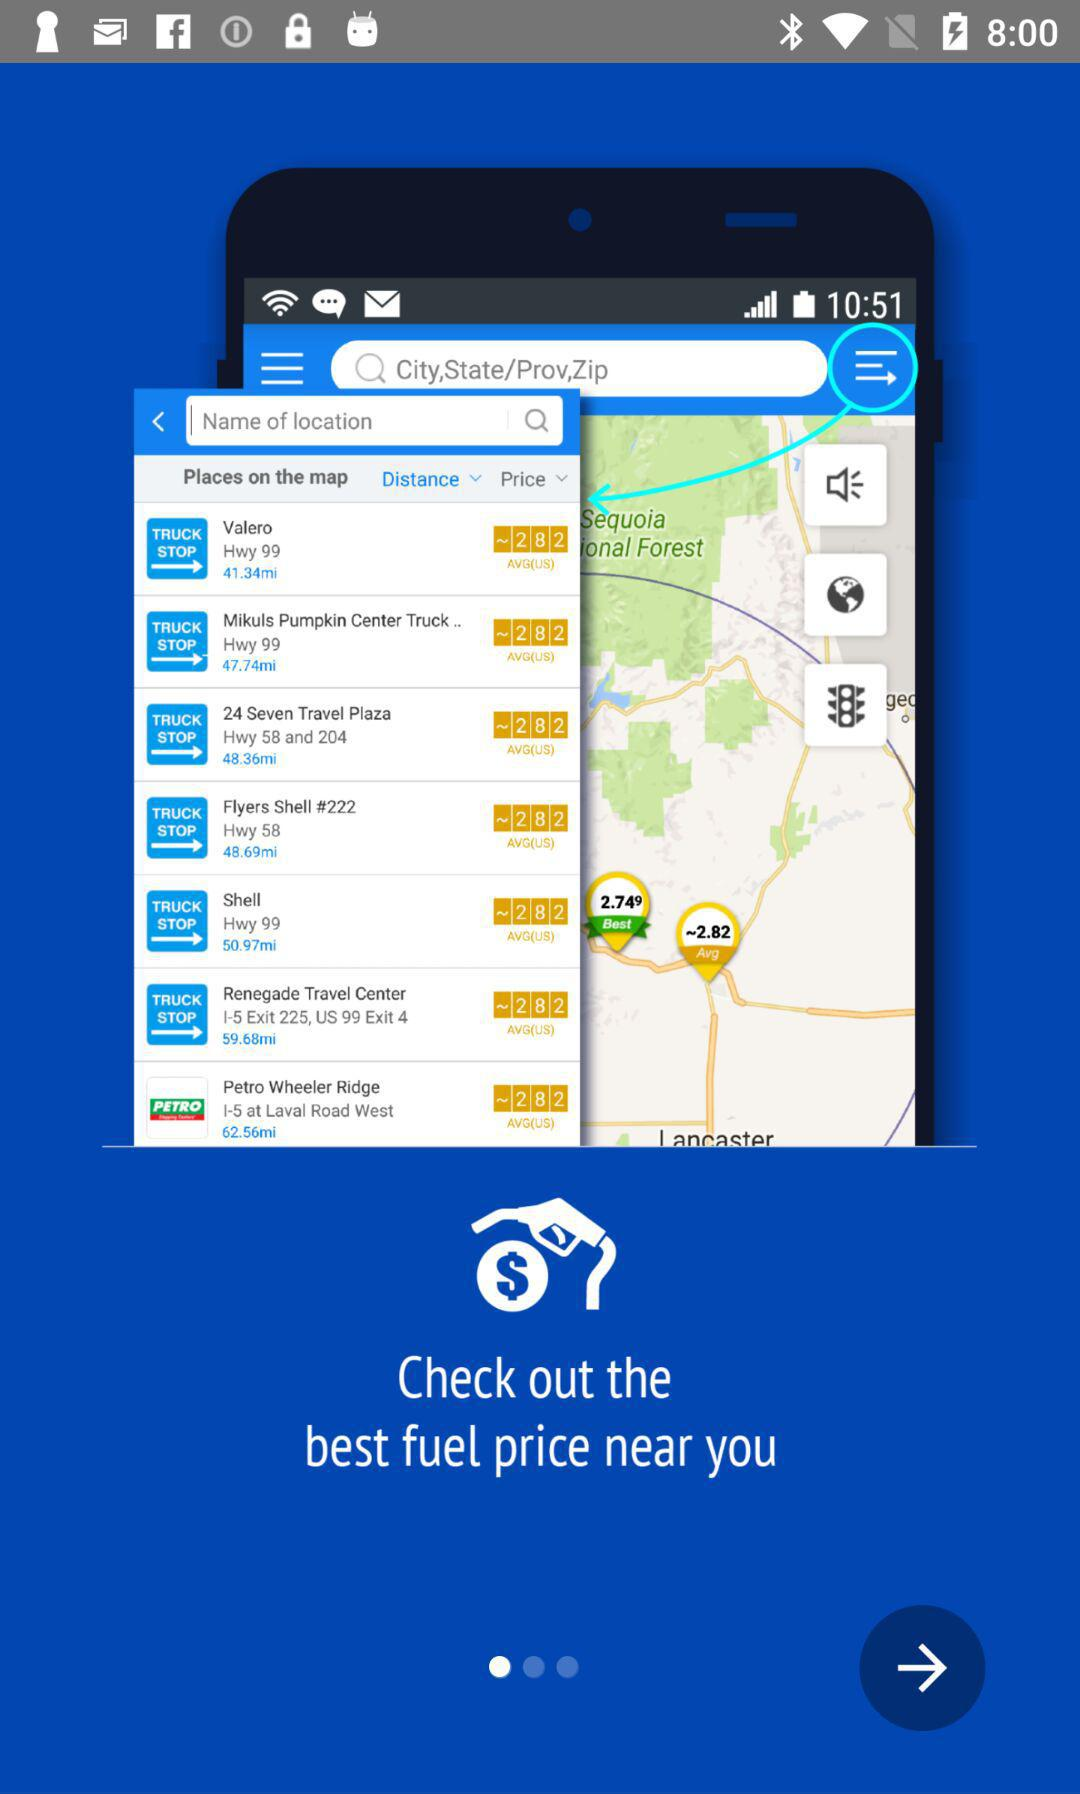Icon: (858, 1606, 986, 1732)
Image: (135, 168, 943, 1149), (470, 1197, 619, 1313)
PageIndicator: (488, 1656, 582, 1680)
Text: (306, 1354, 776, 1480)
UpperTaskBar: (1, 1, 1080, 64)
